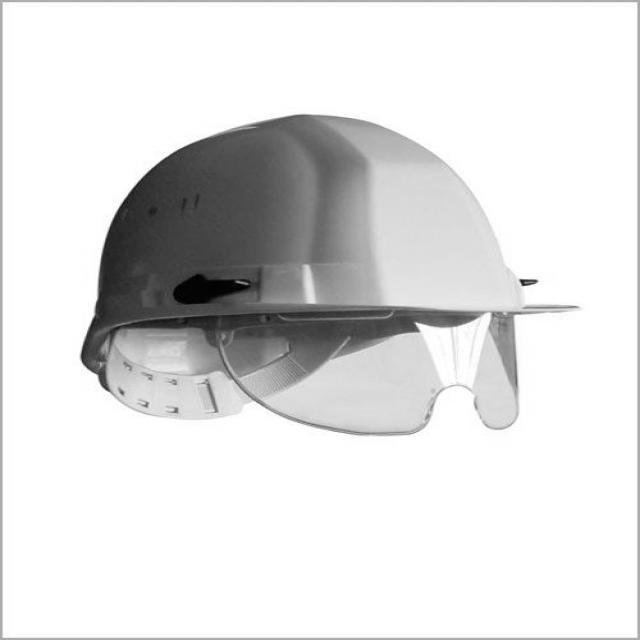safety_helmet: (79, 116, 579, 440)
